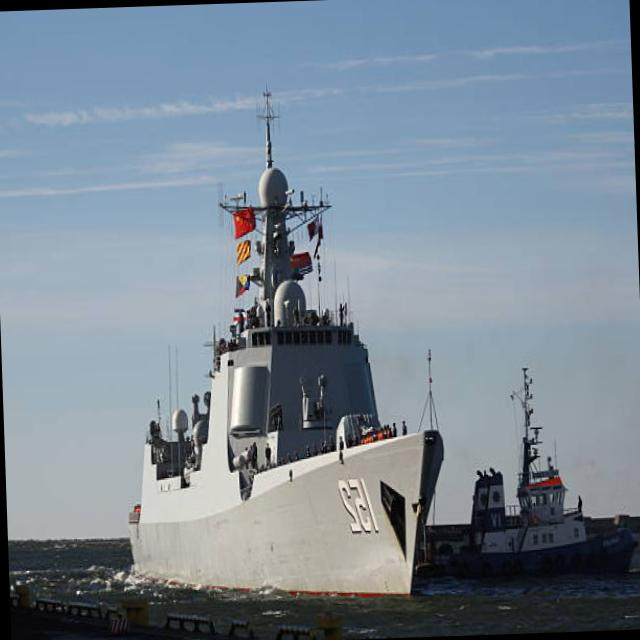Military: (127, 162, 444, 609)
